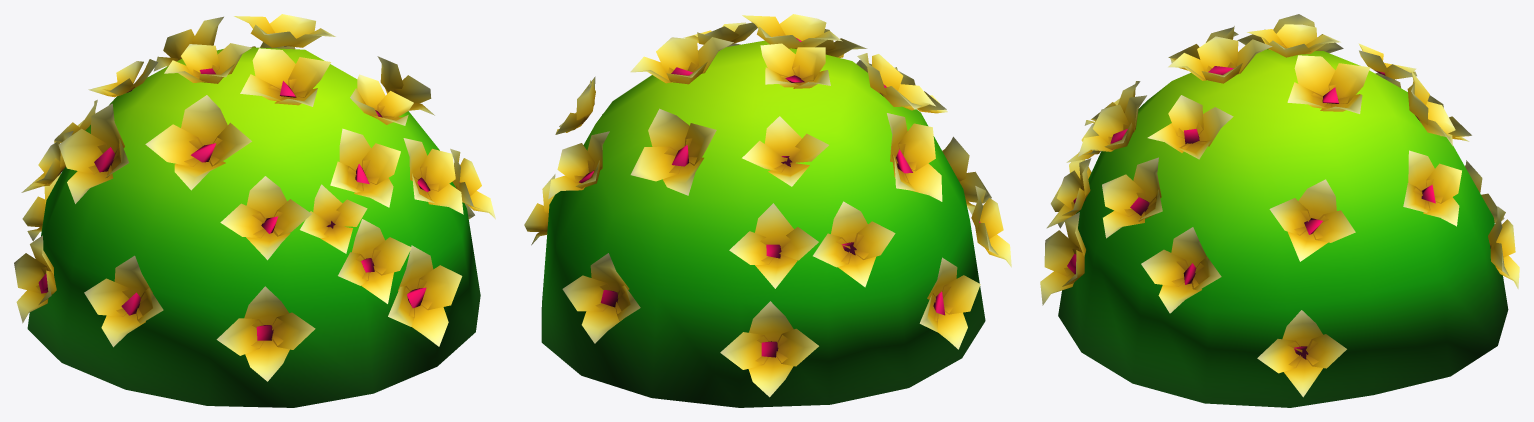
The model's file is Bush4_LOD2.fbx.
3 views of the same model, side by side, from view 1: azimuth 30°, elevation 25°; view 2: azimuth 150°, elevation 25°; view 3: azimuth 270°, elevation 25° (orthographic).
Parts seen in each view (by area): view 1: Bush4; view 2: Bush4; view 3: Bush4.
Part boxes in pixels (x1=…): Bush4: x1=14, y1=14, x2=495, y2=407; Bush4: x1=524, y1=14, x2=1011, y2=407; Bush4: x1=1040, y1=14, x2=1519, y2=407.
Size of the model in its own units: 123 by 73.46 by 120.
Materials: 1 (1 with a texture image).
